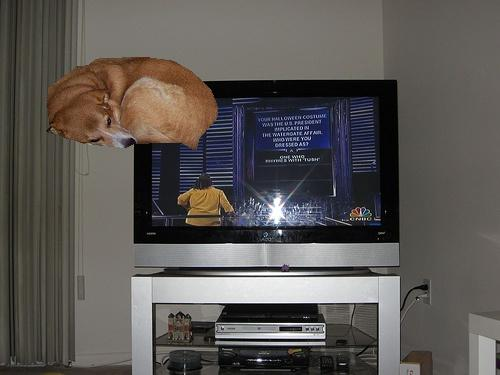tampered: (47, 58, 218, 150)
